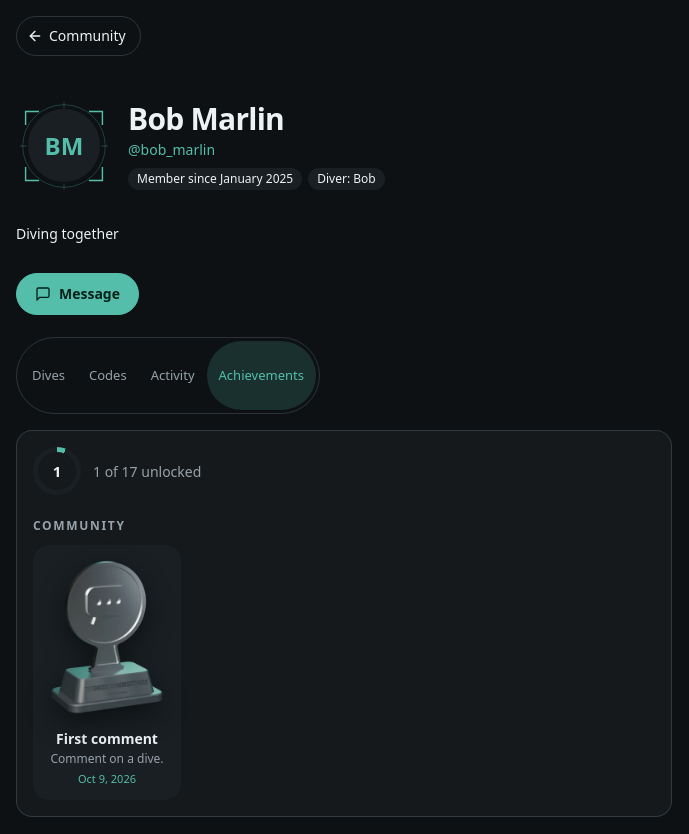
Test: MemberProfile › opens the achievements tab from the toast link and lists what the member unlocked
This screenshot has width=689, height=834.
Expected: the text "First comment" is shown, left=56, top=728, right=158, bottom=749
Click the button "Dives". click: [48, 376]
box: left=20, top=341, right=77, bottom=410
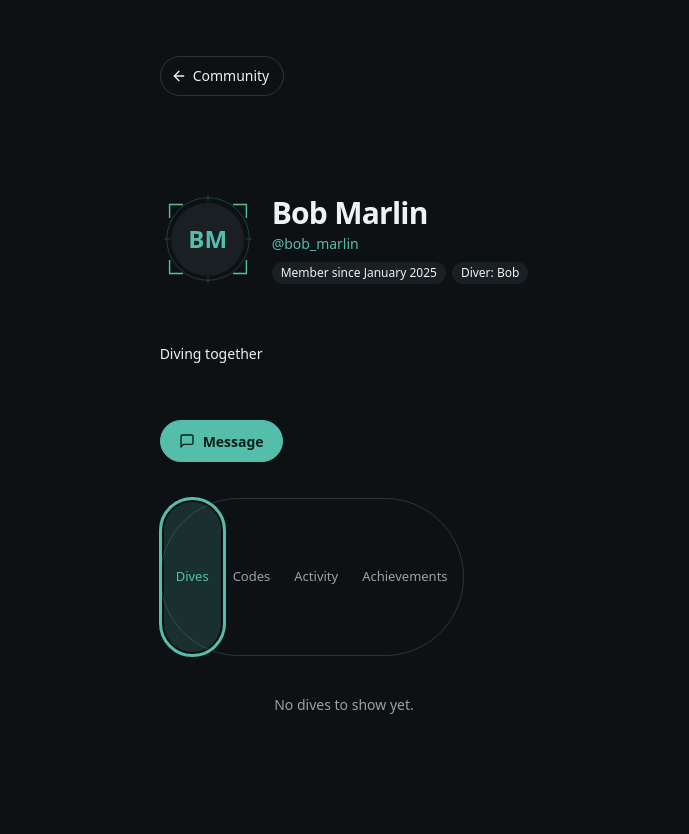
Now the text "First comment" is gone
